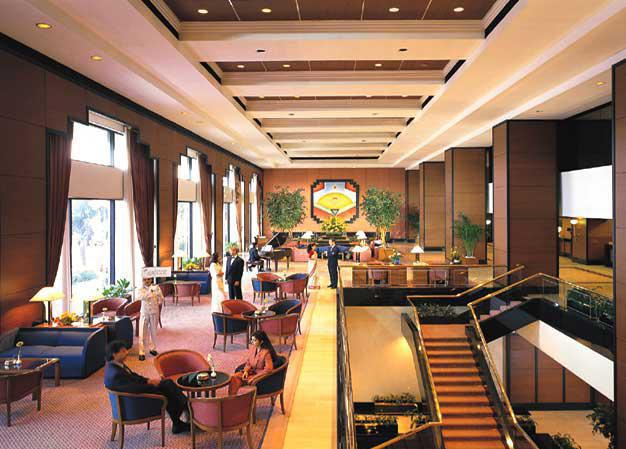Puerta: (103, 347, 191, 437), (234, 325, 275, 395), (137, 274, 165, 357), (226, 243, 246, 296), (211, 253, 227, 302)
